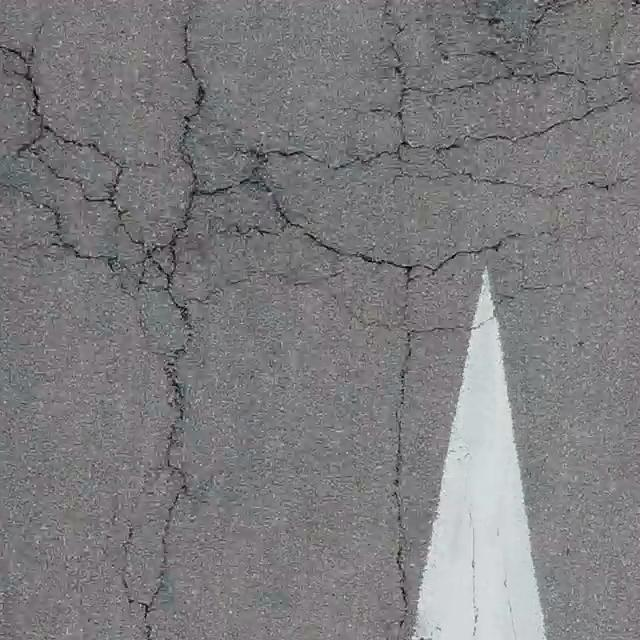GRIETA: (142, 377, 187, 639), (392, 342, 412, 639), (179, 18, 205, 151), (0, 45, 41, 116)
PIEL DE COCODRILO: (0, 0, 639, 379)
